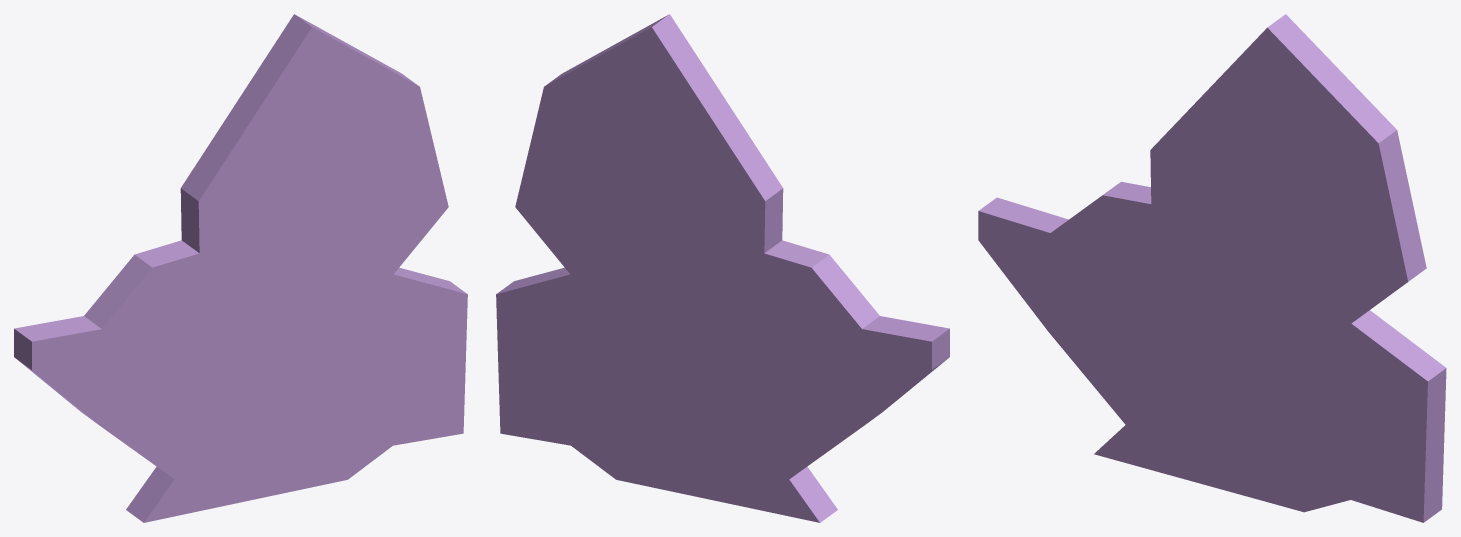
The model's file is San Juan de.fbx.
3 views of the same model, side by side, from view 1: azimuth 30°, elevation 25°; view 2: azimuth 150°, elevation 25°; view 3: azimuth 330°, elevation 25° (orthographic). The views are drawn at different scales.
Parts seen in each view (by area): view 1: san_juan_de_guadalupe; view 2: san_juan_de_guadalupe; view 3: san_juan_de_guadalupe.
Part boxes in pixels (left/top/right/bottom): san_juan_de_guadalupe: left=14, top=14, right=467, bottom=522; san_juan_de_guadalupe: left=496, top=14, right=949, bottom=522; san_juan_de_guadalupe: left=978, top=14, right=1446, bottom=522.
Bounding box in the file's own units: 112 × 113 × 8.
